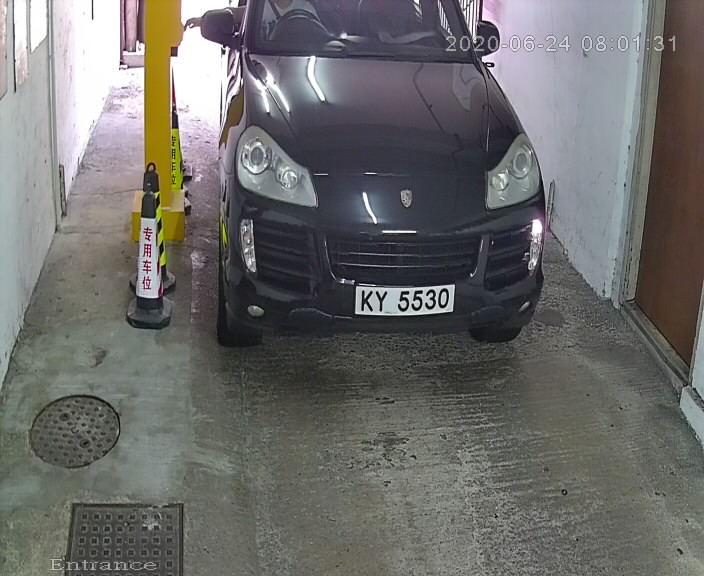privatecar: (195, 1, 563, 364)
